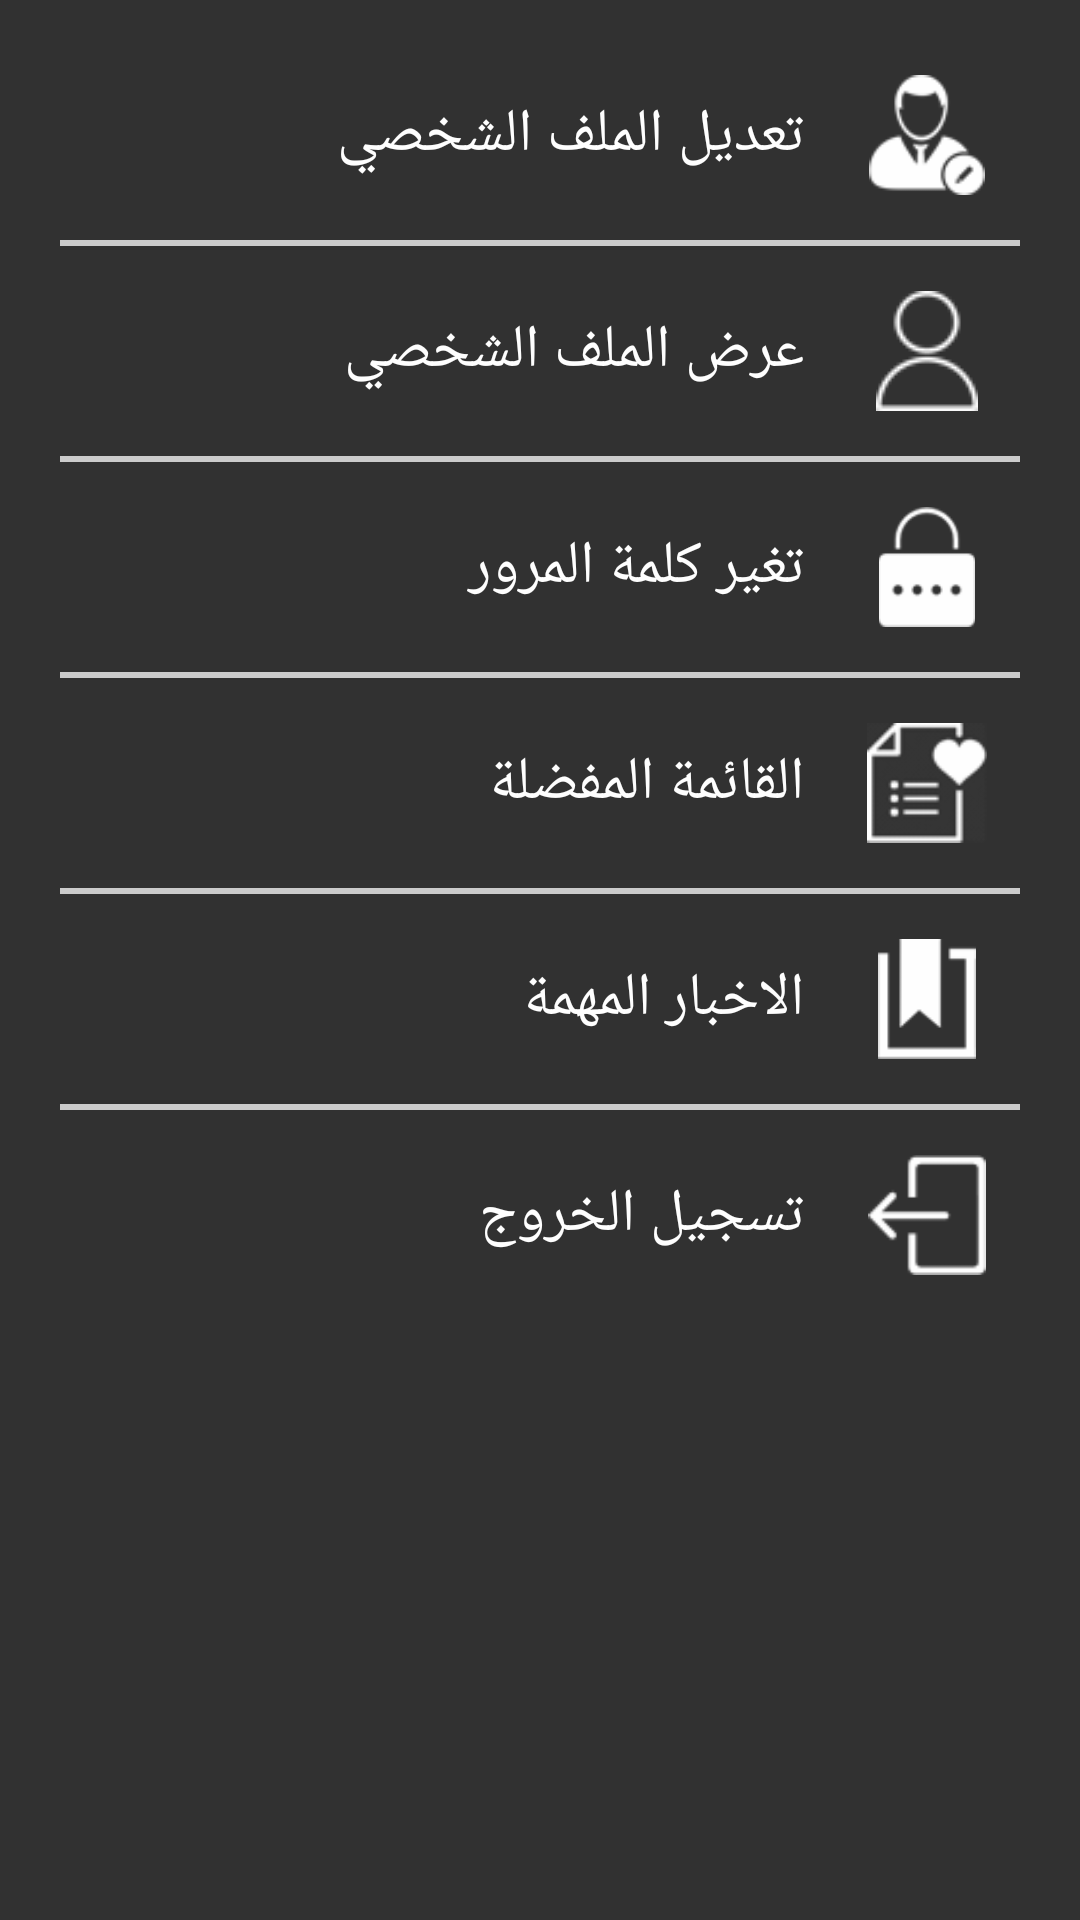

Where icons sit on this 1080px×1920px app screen, as (x1, y1, x2, y2):
change password: (879, 507, 975, 627)
edit profile: (869, 75, 985, 195)
favorite category: (867, 723, 987, 843)
feld user name: (876, 291, 978, 411)
save: (878, 939, 976, 1059)
